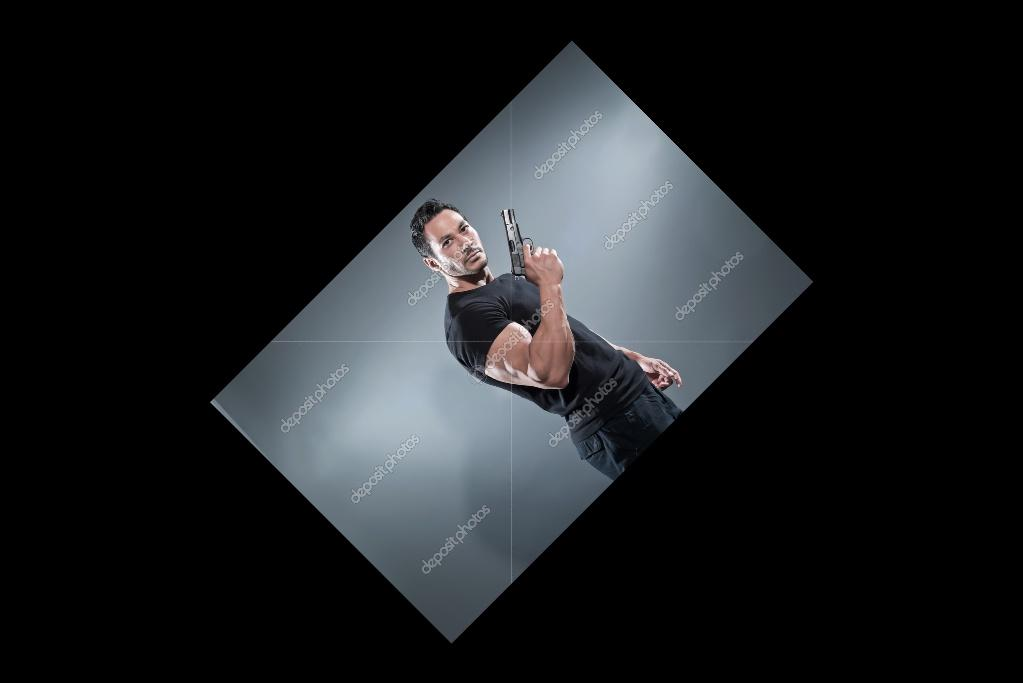weapon: (496, 209, 565, 281)
